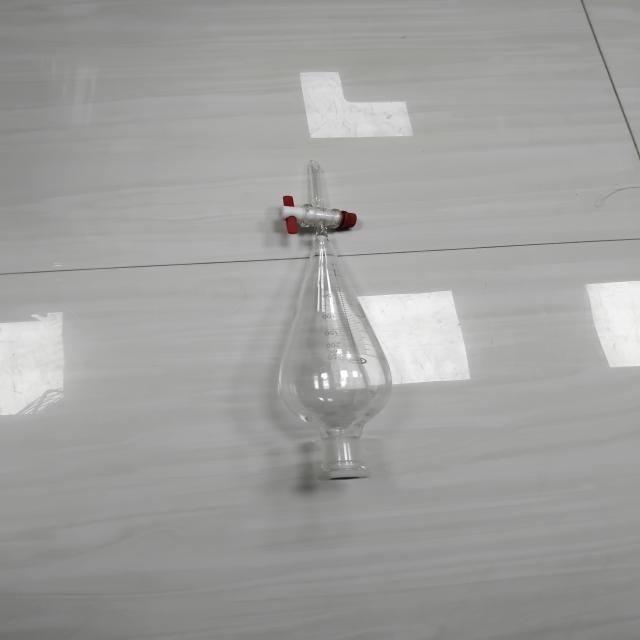Separating_Funnel: (226, 124, 444, 508)
